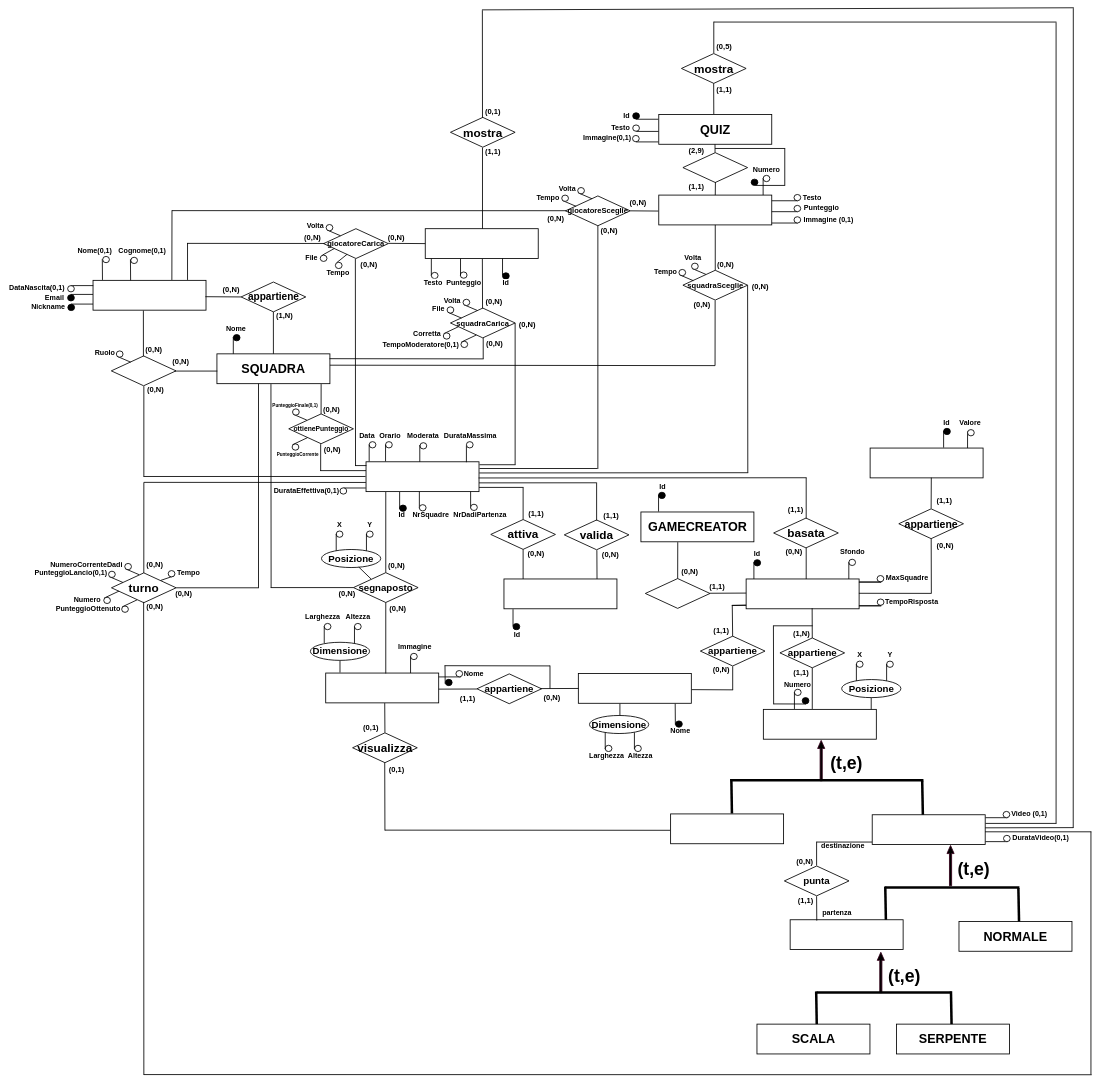
This 1100x1083 diagram has some shape labels left out. The centre of each missing label's shape, as x and y in pixels:
"ADMIN" goes at point 560,593.
"CASELLA" goes at point 820,724.
"crea" goes at point 677,593.
"DADO" goes at point 926,462.
"GIOCO" goes at point 802,593.
"ha" goes at point 715,167.
"ICONA" goes at point 382,687.
"MODIFICATRICE" goes at point 846,934.
"NONPODIO" goes at point 928,829.
"partecipa" goes at point 143,370.
"PODIO" goes at point 727,828.
"RISPOSTA" goes at point 715,209.
"SETICONE" goes at point 635,688.
"SFIDA" goes at point 422,476.
"TASK" goes at point 481,243.
"UTENTE" goes at point 149,295.
